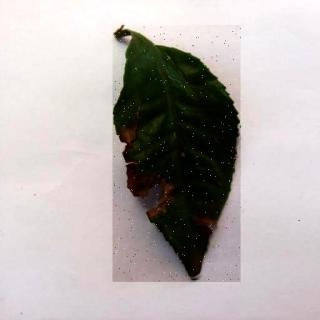Algal Leaf: (114, 27, 242, 284)
